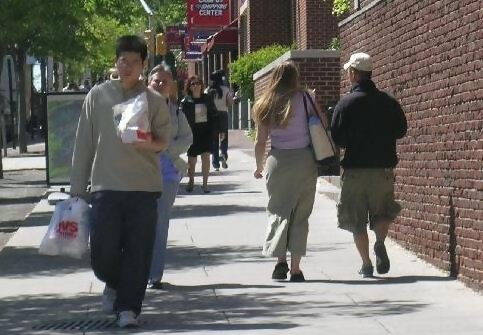person: (76, 35, 186, 313), (336, 53, 422, 275), (255, 62, 329, 280)
